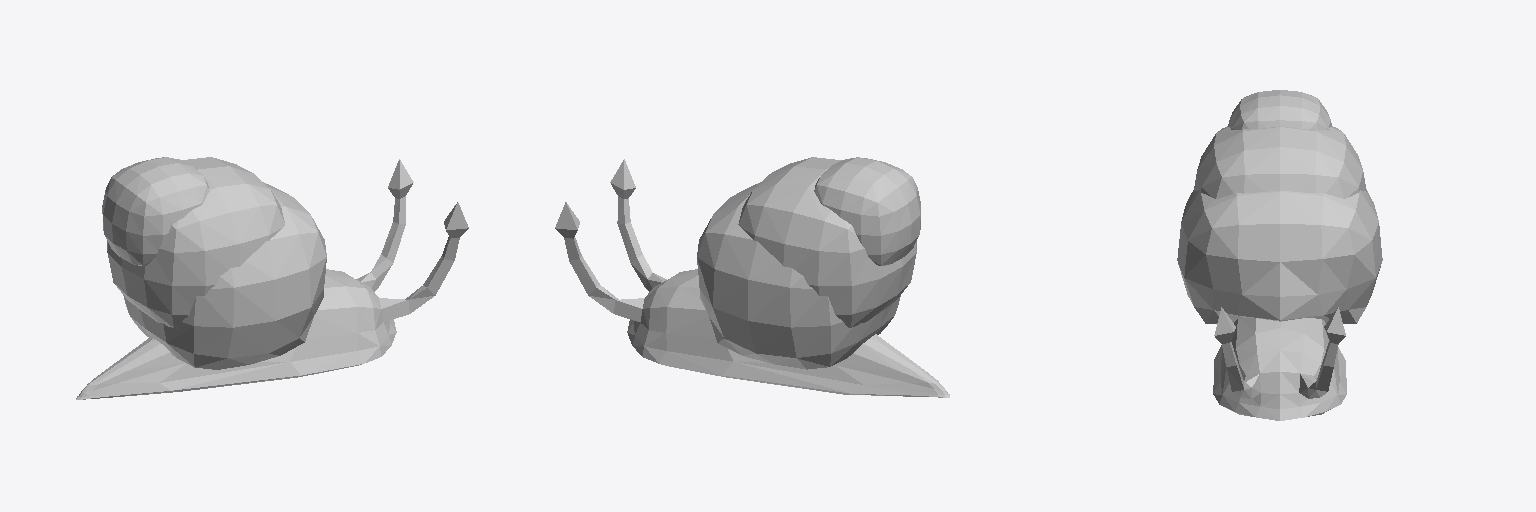
Rendered from Slow.obj.
3 views of the same model, side by side, from view 1: azimuth 30°, elevation 25°; view 2: azimuth 150°, elevation 25°; view 3: azimuth 270°, elevation 25° (orthographic).
Parts seen in each view (by area): view 1: off, Cube.001_Material.001; view 2: off, Cube.001_Material.001; view 3: off, Cube.001_Material.001.
Boxes of the visible parts, x1,y1,x2,y2 form: off: [102, 157, 326, 369]; Cube.001_Material.001: [76, 159, 468, 399]; off: [697, 157, 920, 369]; Cube.001_Material.001: [555, 159, 949, 397]; off: [1177, 90, 1382, 323]; Cube.001_Material.001: [1213, 307, 1346, 420].
Bounding box in the file's own units: 7.76 × 4.64 × 3.81.